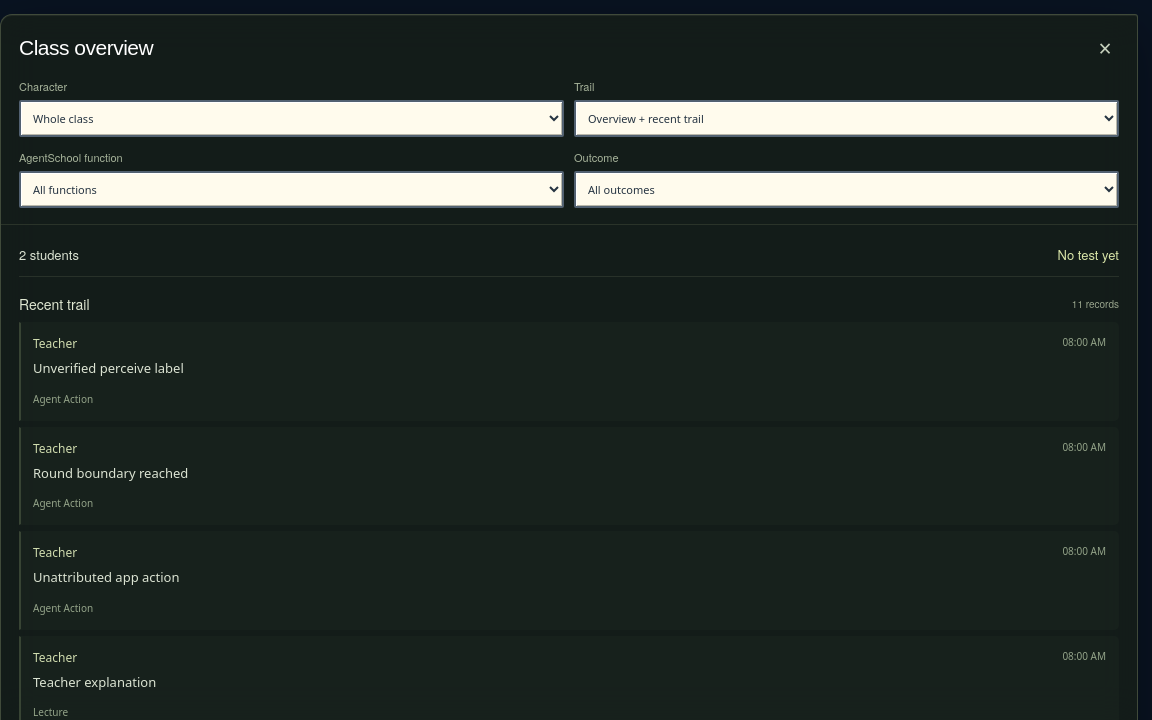
offers only source-backed native calls, not speech labels, app events, or orchestration hooks
The width and height of the screenshot is (1152, 720).
Select "Native calls" in the dropdown labelled "Trail" at (846, 118), box [574,100,1119,137]
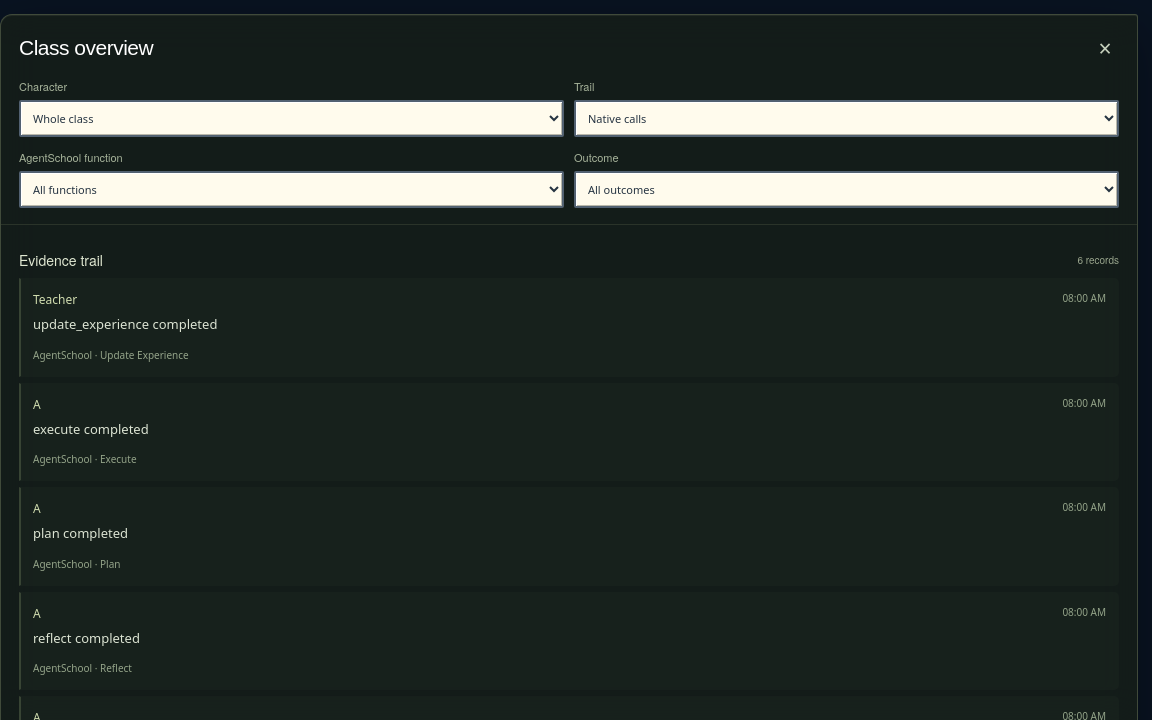
Result: the button "Teacher explanation" is gone
Result: the button "Unattributed app action" is gone
Result: the button "Round boundary reached" is gone
